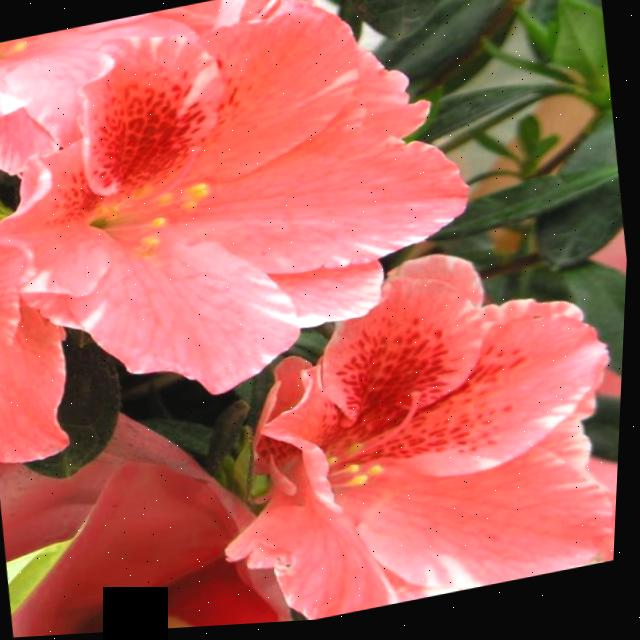azalea: (0, 0, 418, 390), (201, 265, 629, 630)
